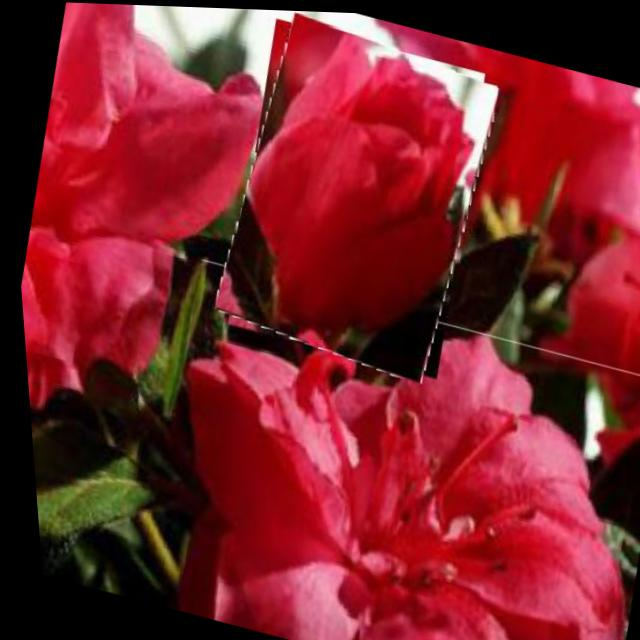Flower: (118, 255, 640, 640), (196, 7, 512, 386)
